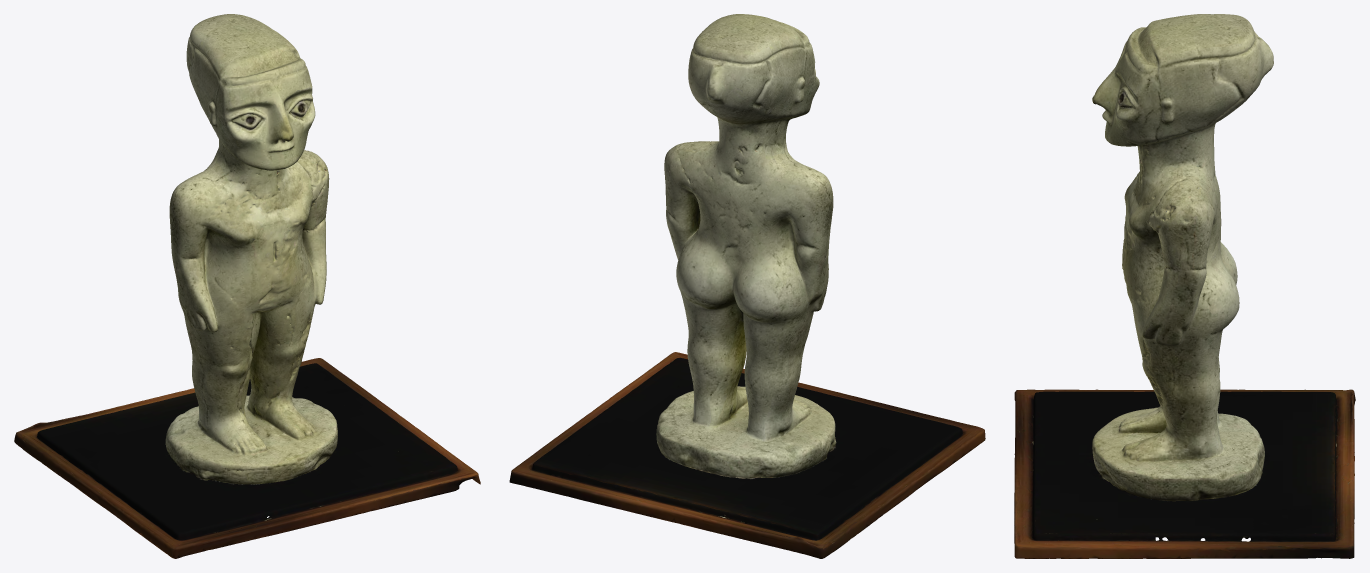
The model's file is ain-ghazal-statue.glb.
The picture shows the model from 3 angles, left to right: view 1: azimuth 30°, elevation 25°; view 2: azimuth 150°, elevation 25°; view 3: azimuth 270°, elevation 25°; orthographic projection. The views are drawn at different scales.
Visible parts, largest first — view 1: world; view 2: world; view 3: world.
Boxes of the visible parts, <box> form: world: <box>14,14,480,558</box>; world: <box>509,14,985,558</box>; world: <box>1014,14,1355,558</box>.
Size of the model in its own units: 0.7575 by 1 by 0.6832.
Materials: 1 (1 with a texture image).
